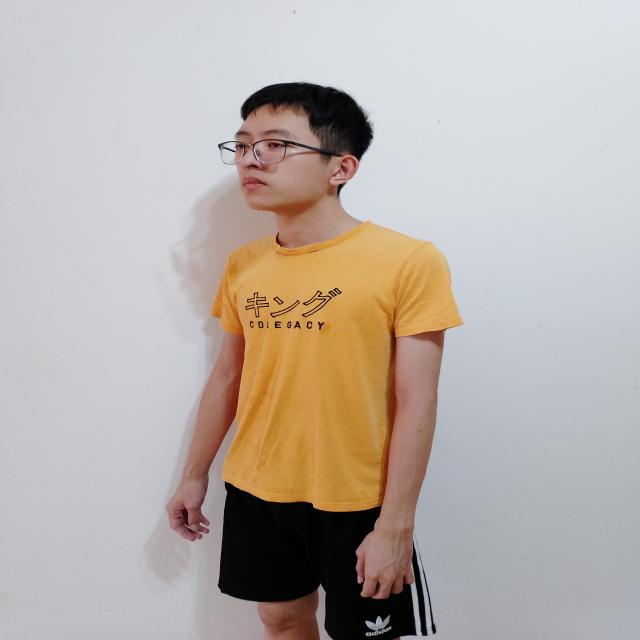person_without_labcoat: (167, 83, 462, 640)
